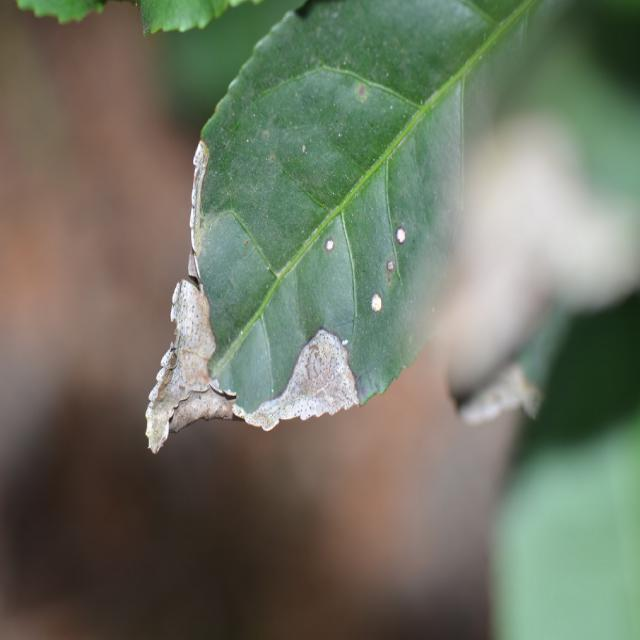Tea cloud leaf blight: (150, 134, 358, 470)
